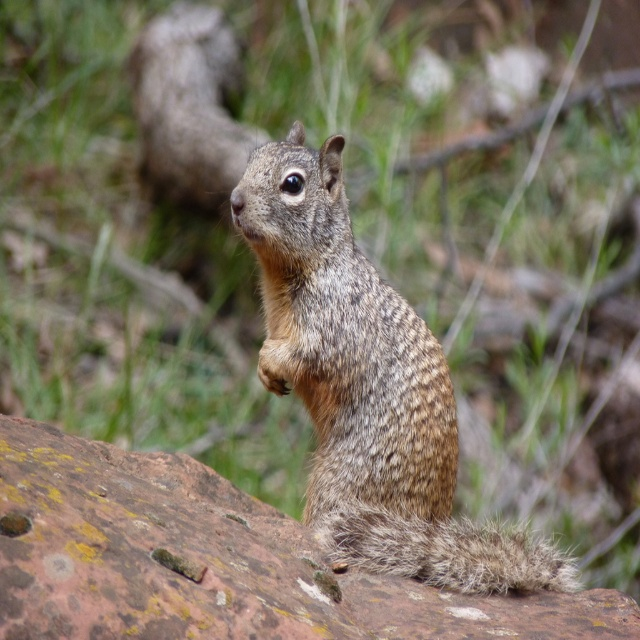Squirrel: (228, 120, 587, 598)
